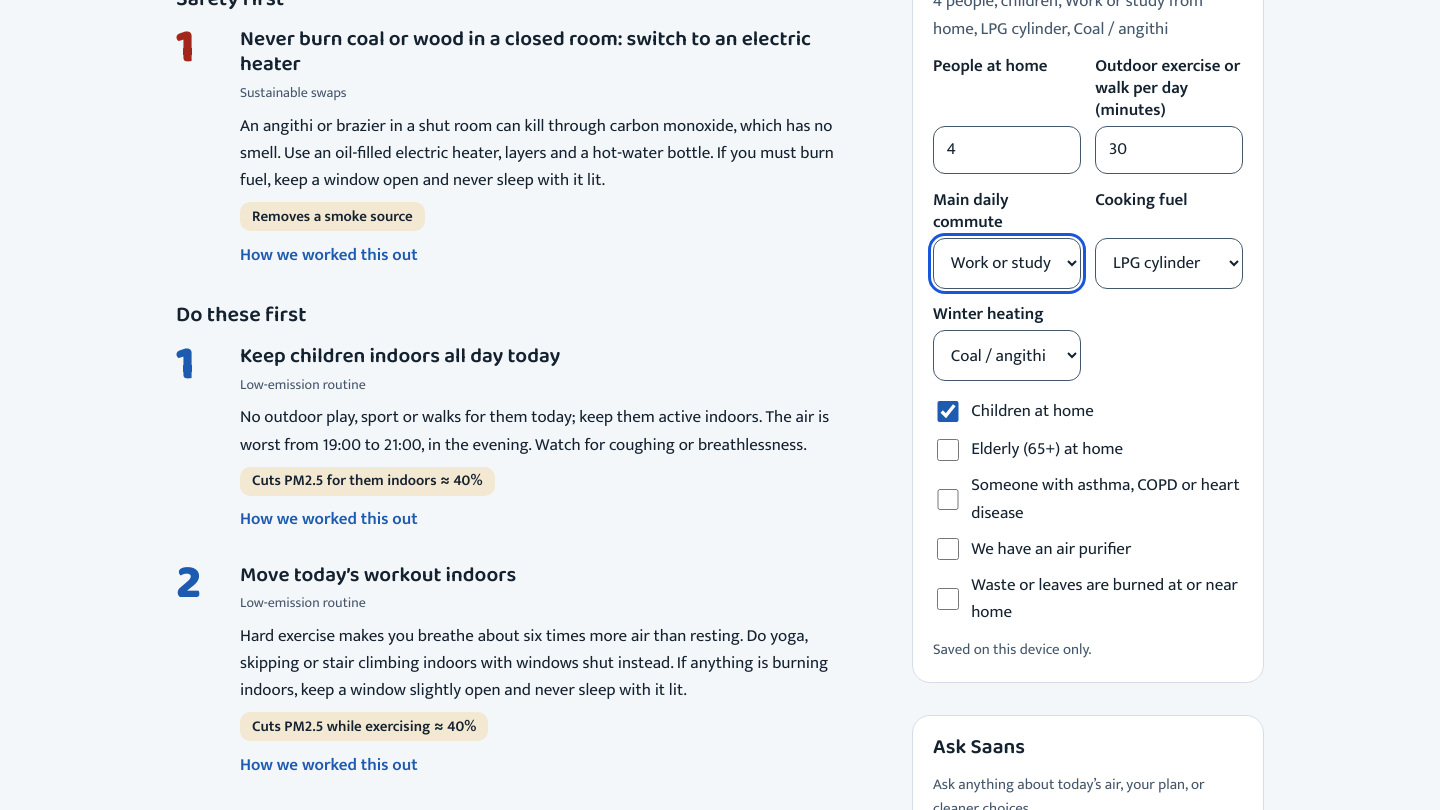
Scenario: App: air, plan and household › updates the plan when the profile changes and persists it
Earlier steps of the test are not shown.
(page scrolled)
Expected: the label labelled "One-way commute distance (km)" is not shown
Select "Car" in the dropdown labelled "Main daily commute": point(1007, 263) [933,238,1081,289]
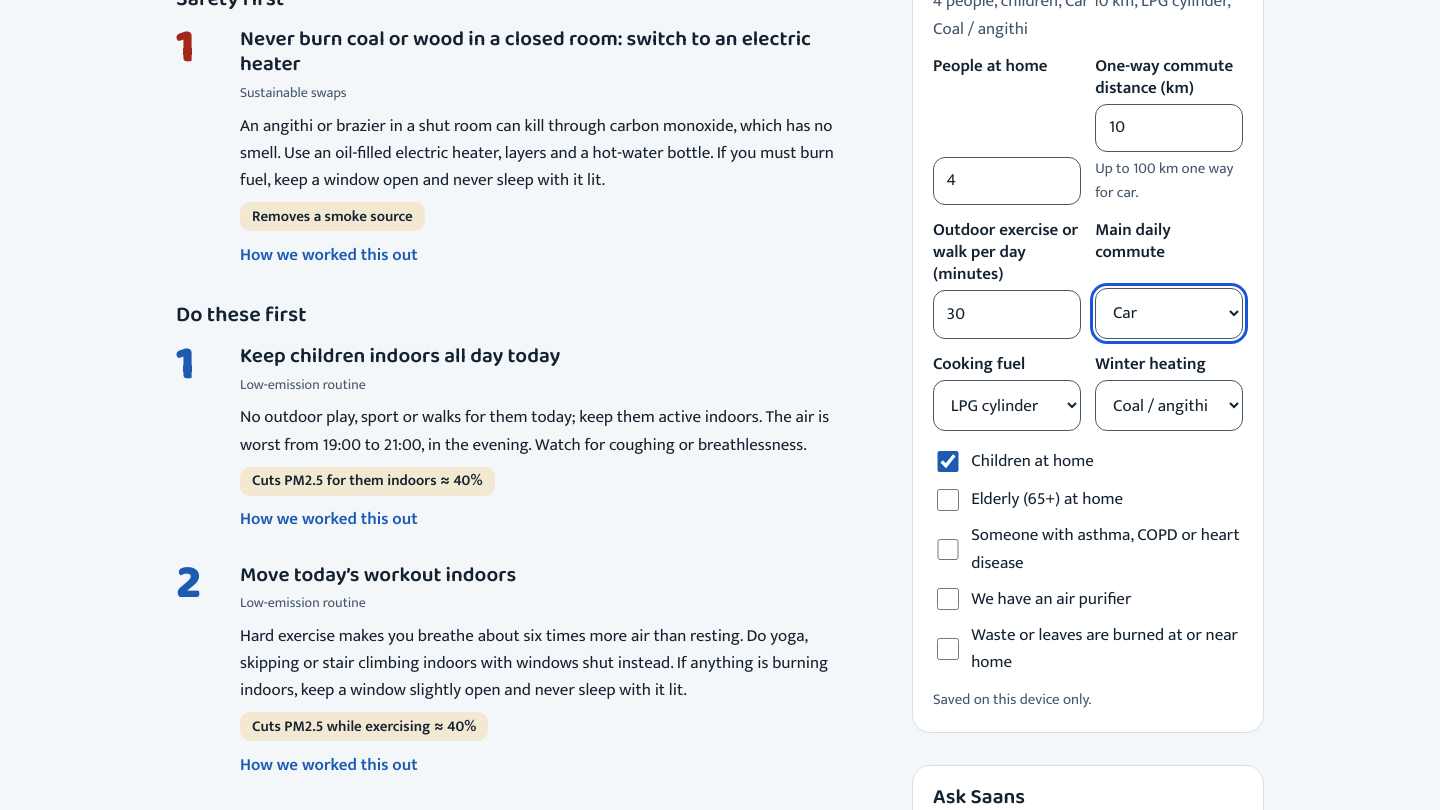
Click the checkbox labelled "We have an air purifier": point(948, 599) [937,588,959,610]
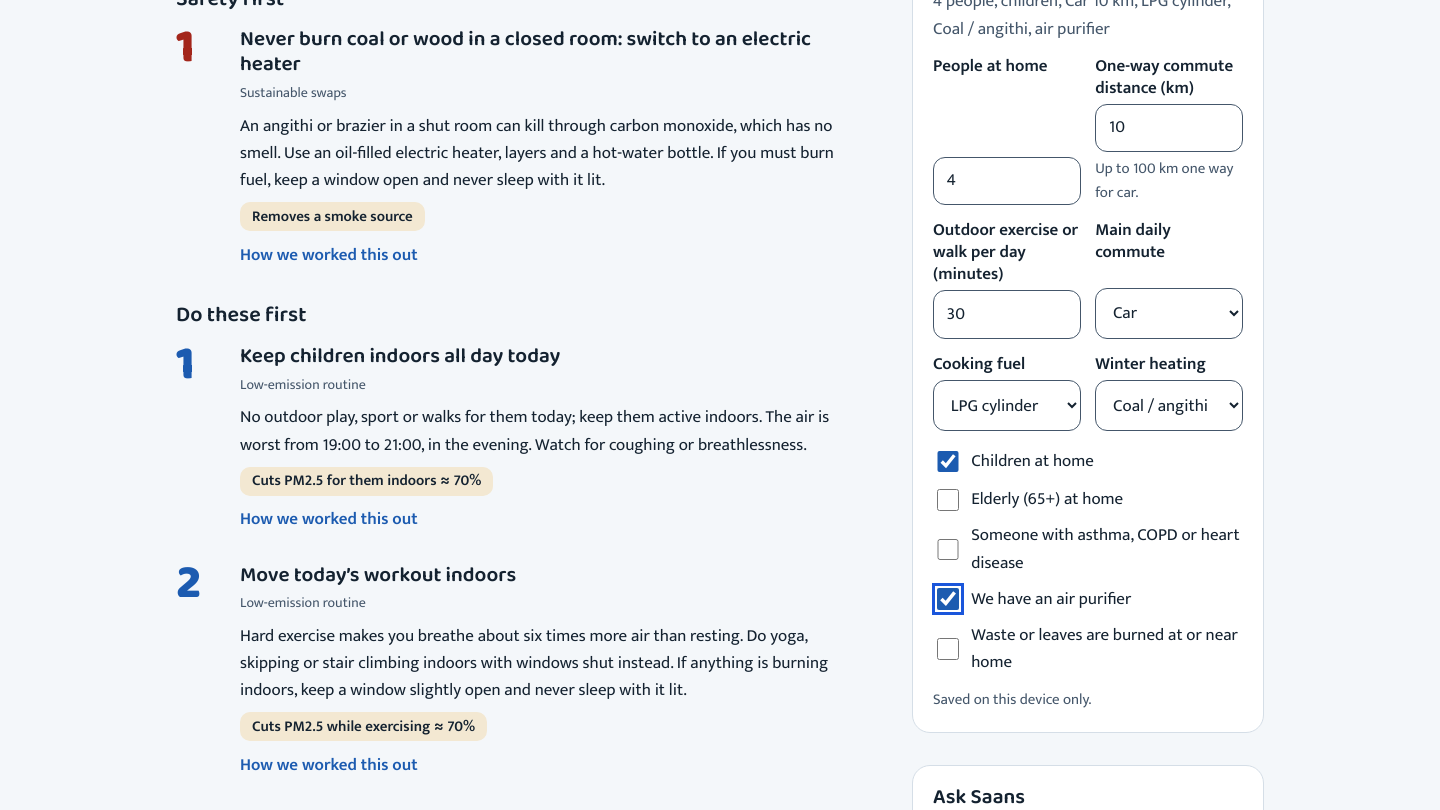
Note: Clearing a number box to retype must not snap back to the default.
Clear the number field labelled "People at home": point(1007, 181) [933,156,1081,205]
In the number field labelled "People at home": point(1007, 181) [933,156,1081,205], type "6"
Press Tab
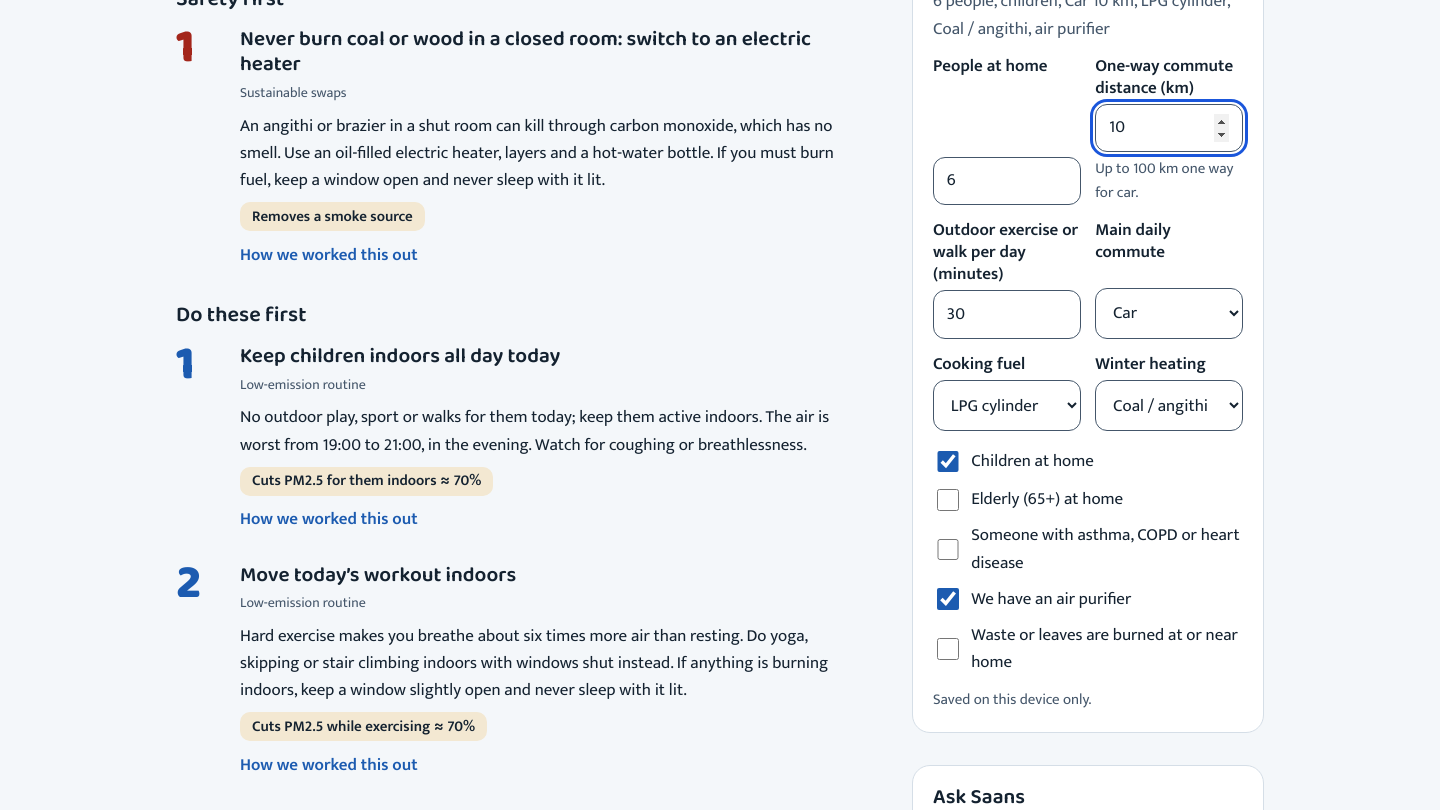
Replace the text in the number field labelled "One-way commute distance (km)" with "2": point(1169, 128) [1095,104,1243,152]
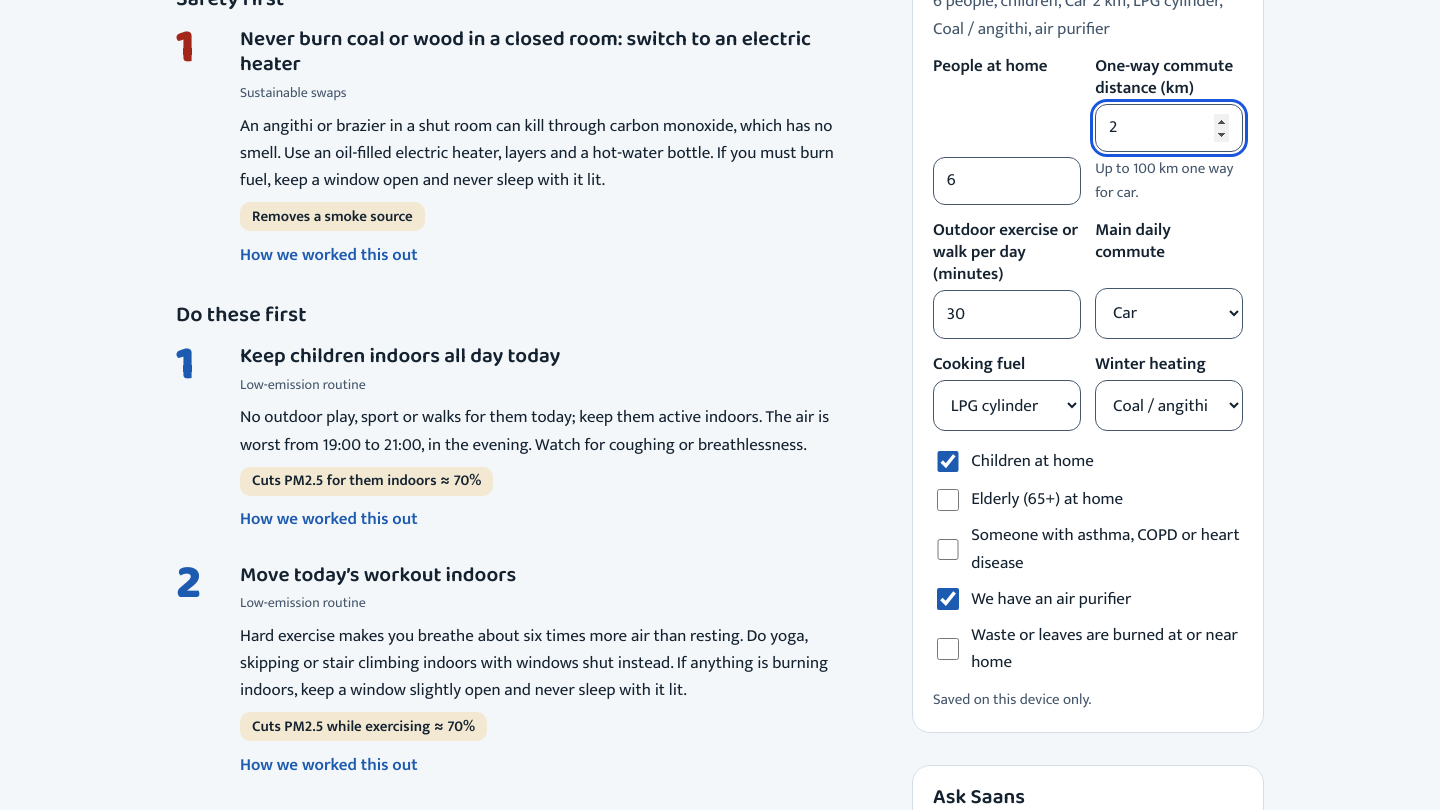
Select "Wood, dung or crop waste" in the dropdown labelled "Cooking fuel": point(1007, 406) [933,380,1081,431]
(page scrolled)
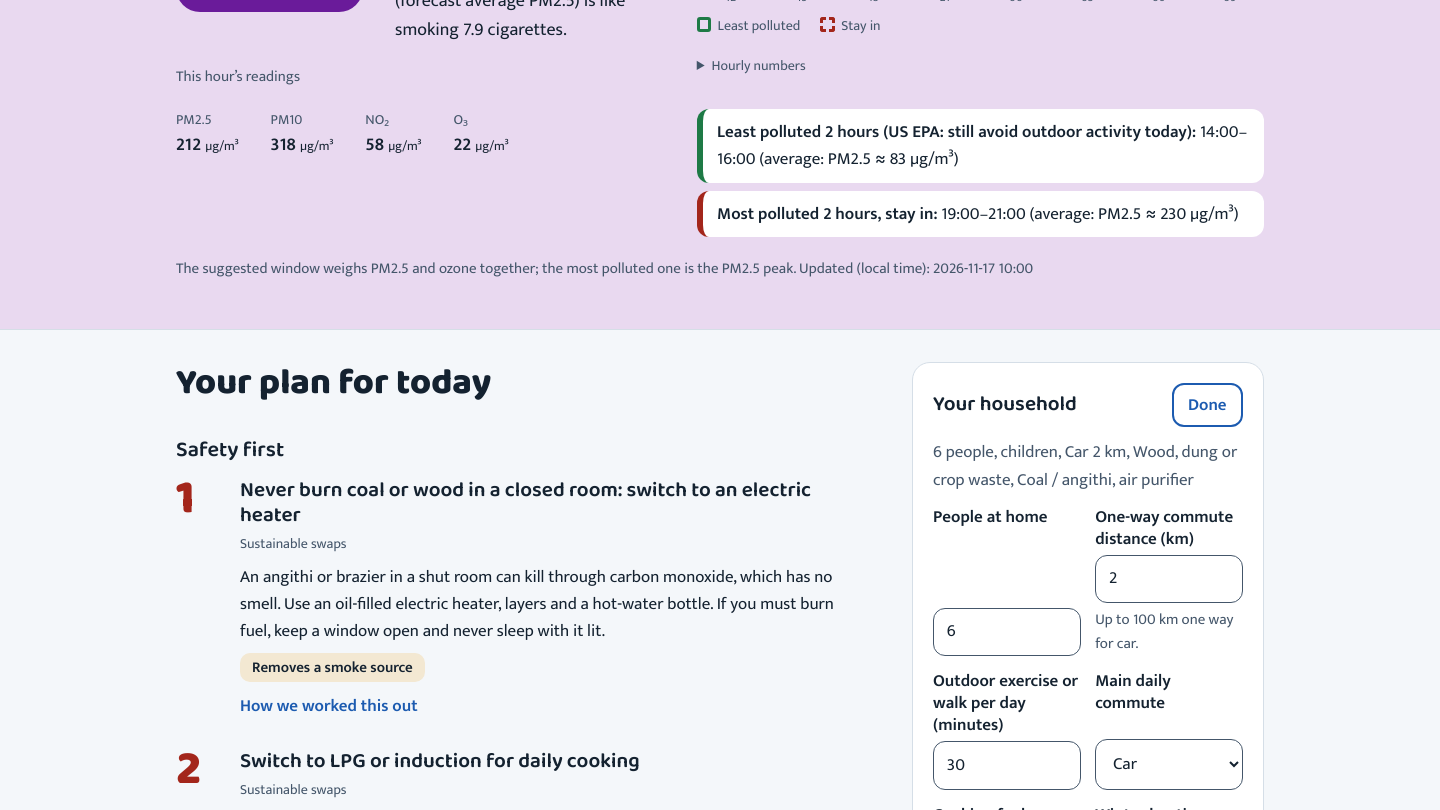
Expected: the heading "Switch to LPG or induction for daily cooking" is shown, [240,745,640,778]
Click the button "Done": point(1207, 405) [1172,383,1243,427]
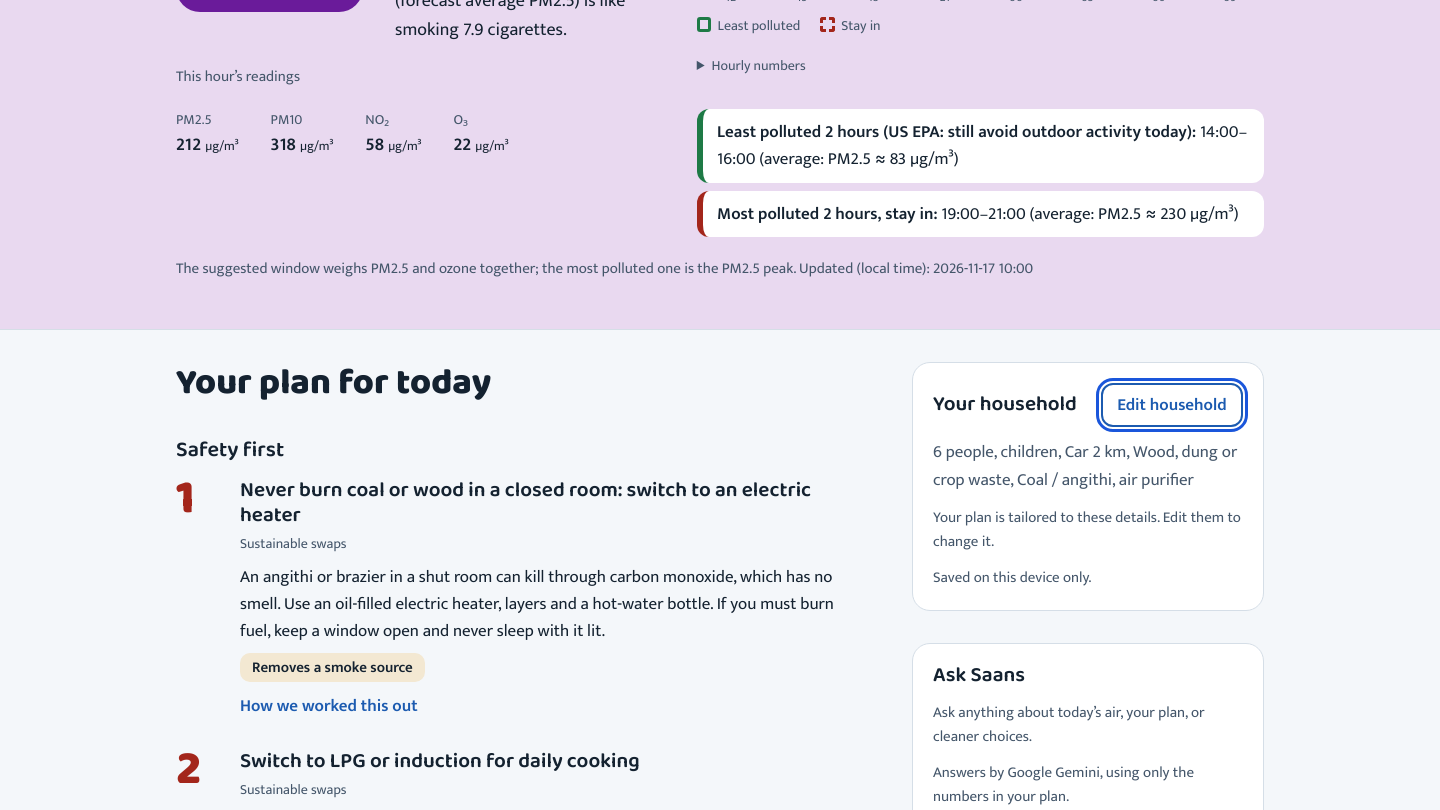
Expected: the text "Your plan is tailored to these details" is shown, [933,505,1241,554]
